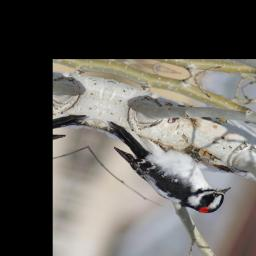Woodpecker: (83, 119, 246, 217)
